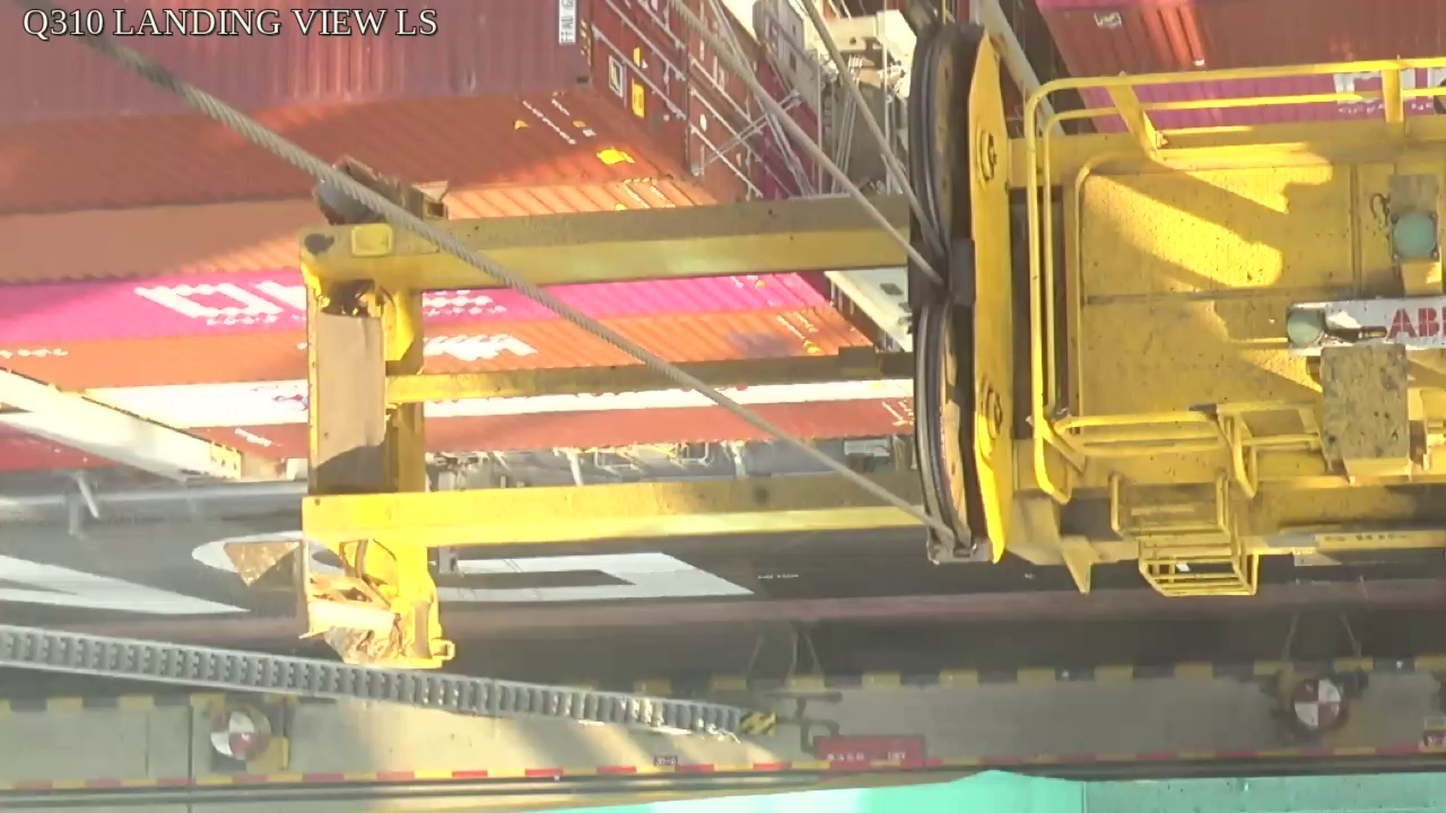aa: (906, 26, 1020, 567)
